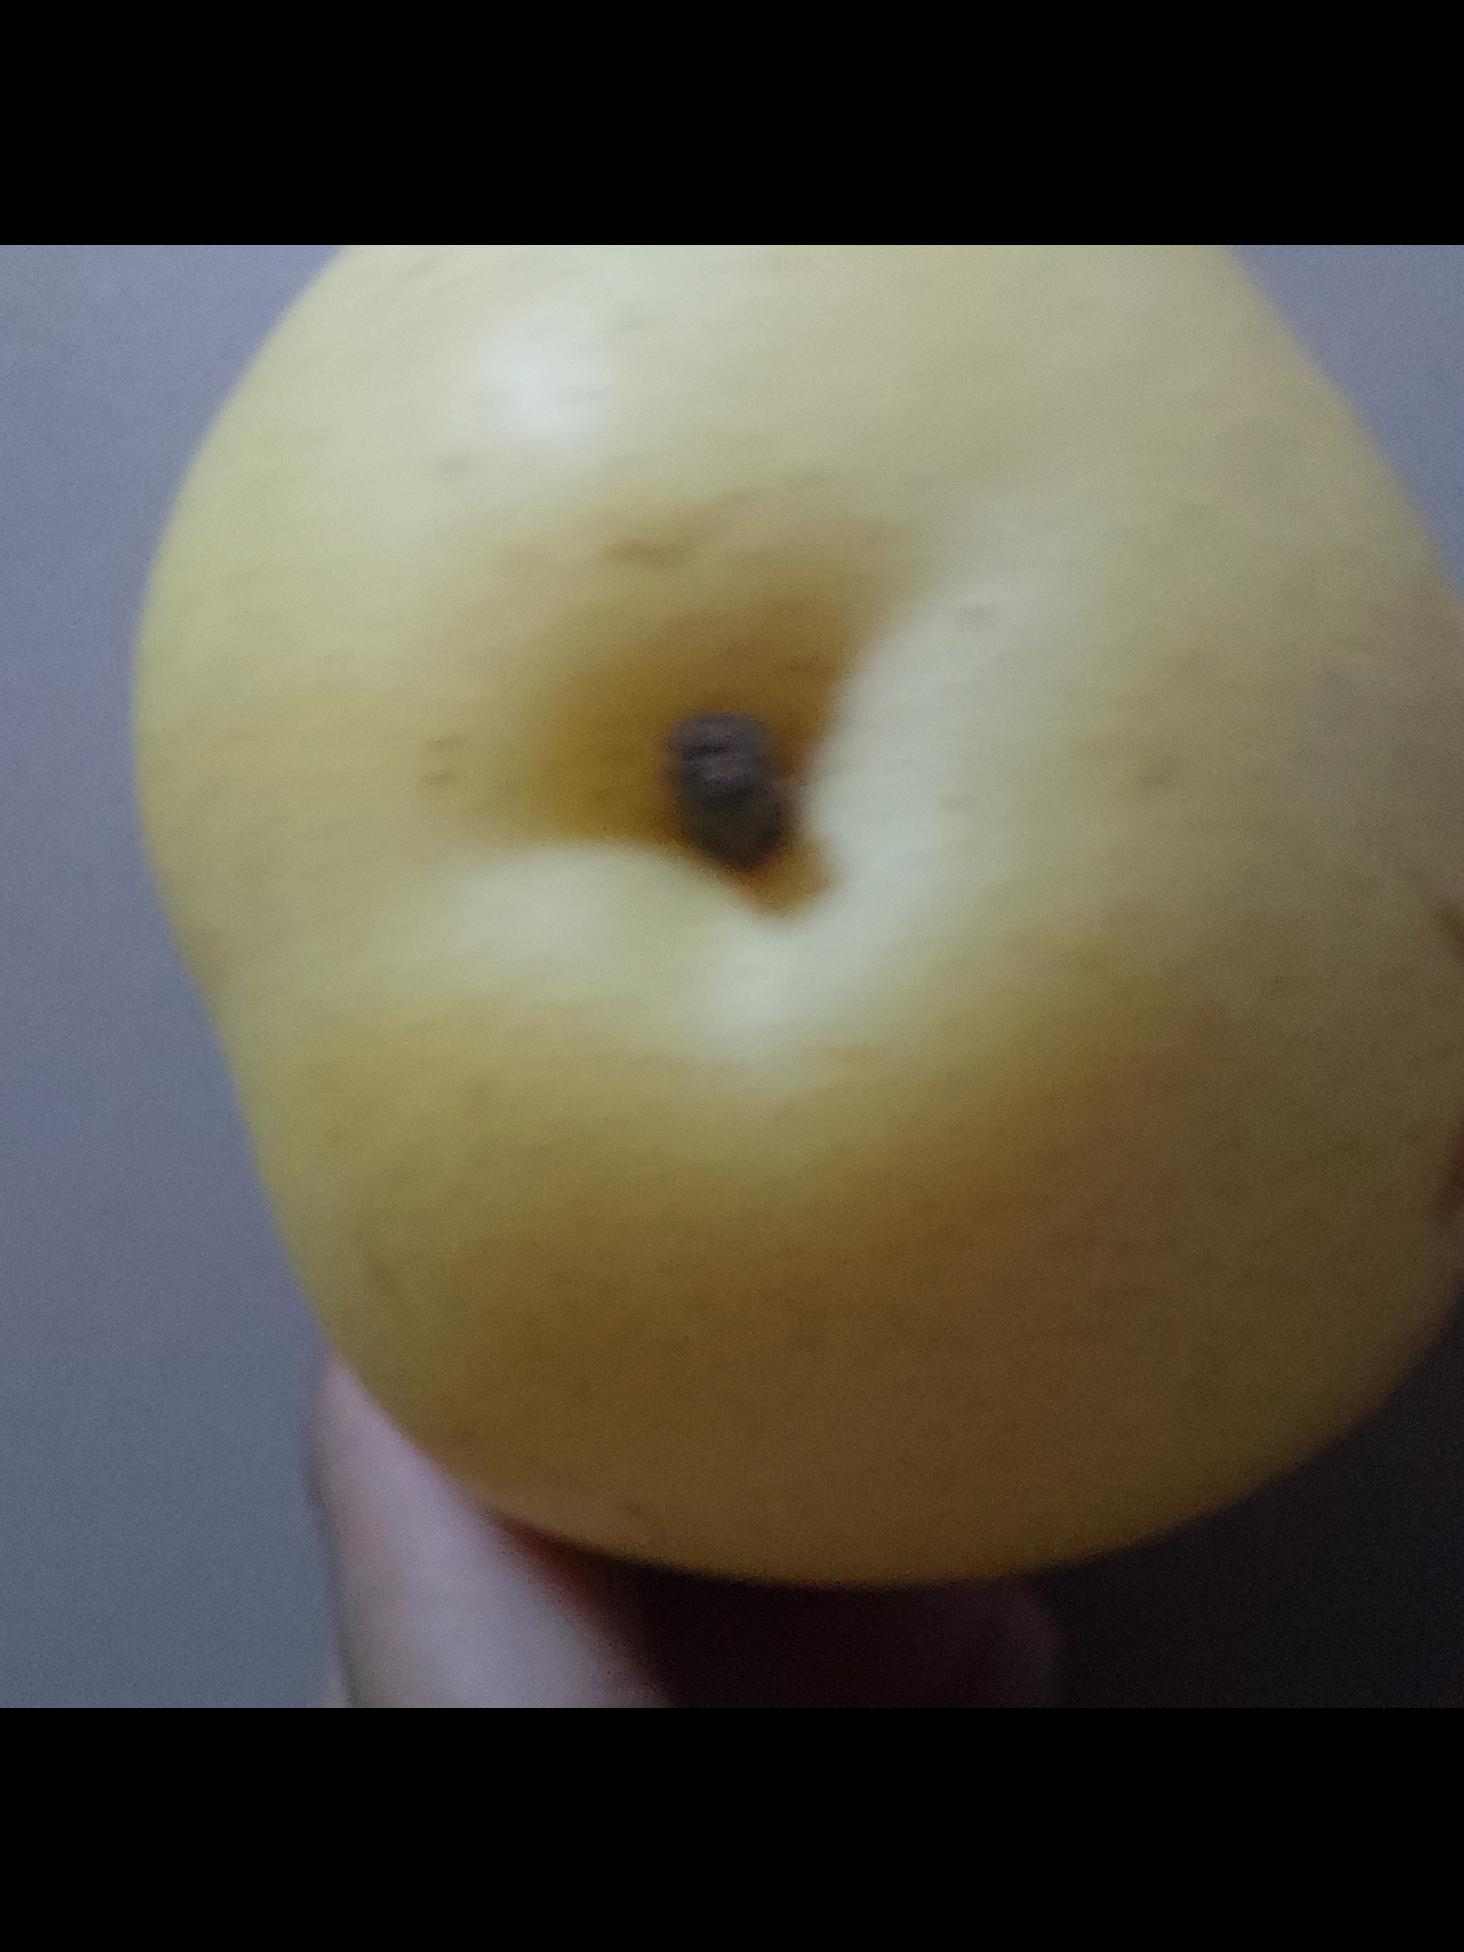Good Pear: (123, 244, 1464, 1559)
